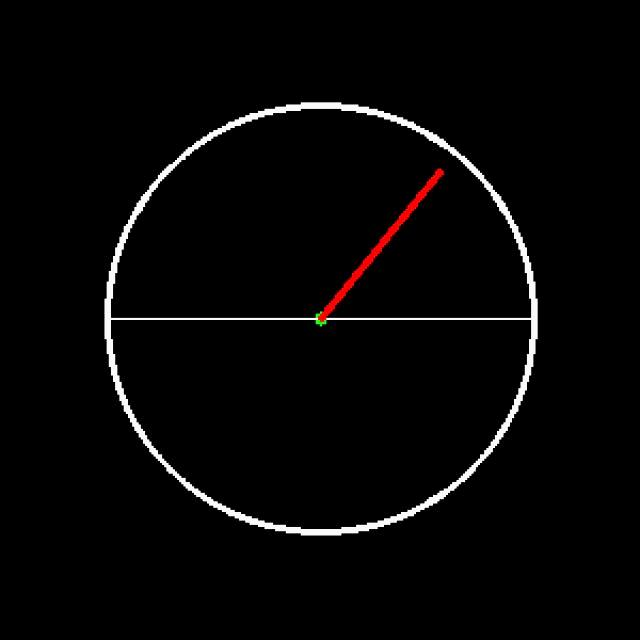Needle_Tip: (414, 158, 464, 206)
Needle_base: (284, 297, 353, 347)
